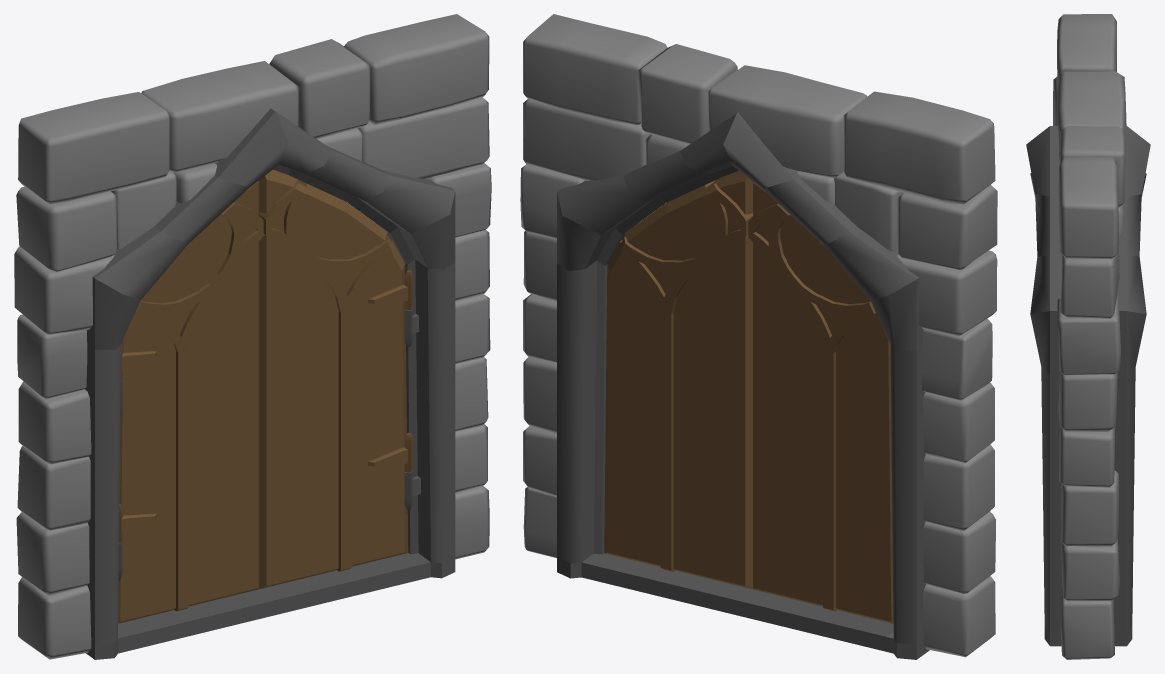
The model's file is stonewall_door_big_v001.fbx.
3 renders of one model, left to right at view 1: azimuth 30°, elevation 25°; view 2: azimuth 150°, elevation 25°; view 3: azimuth 270°, elevation 25°, orthographic. The views are drawn at different scales.
Visible parts, largest first — view 1: stonewall_door_big1, double_door2, double_door1; view 2: stonewall_door_big1, double_door2, double_door1; view 3: stonewall_door_big1.
Part boxes in pixels (<box>): stonewall_door_big1: <box>14,14,491,659</box>; double_door2: <box>258,169,413,589</box>; double_door1: <box>118,180,263,623</box>; stonewall_door_big1: <box>520,14,997,659</box>; double_door2: <box>604,171,753,589</box>; double_door1: <box>748,182,893,623</box>; stonewall_door_big1: <box>1026,14,1150,659</box>.
Bounding box in the file's own units: 454 × 508 × 124.
